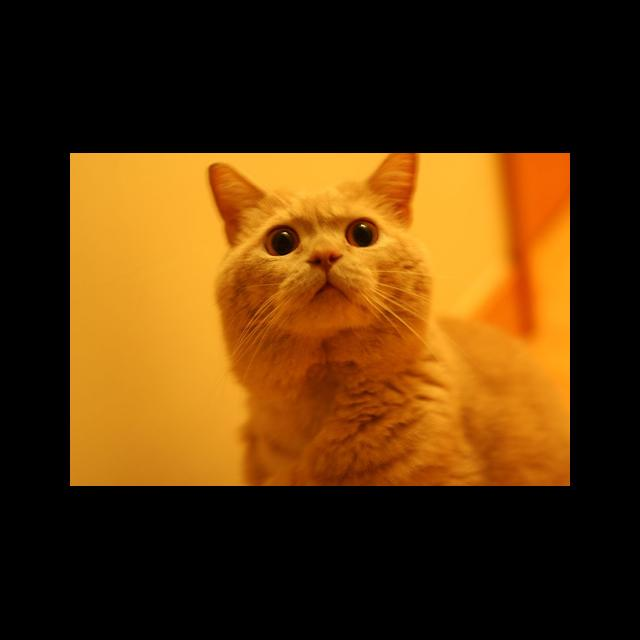animals: (215, 153, 412, 270)
